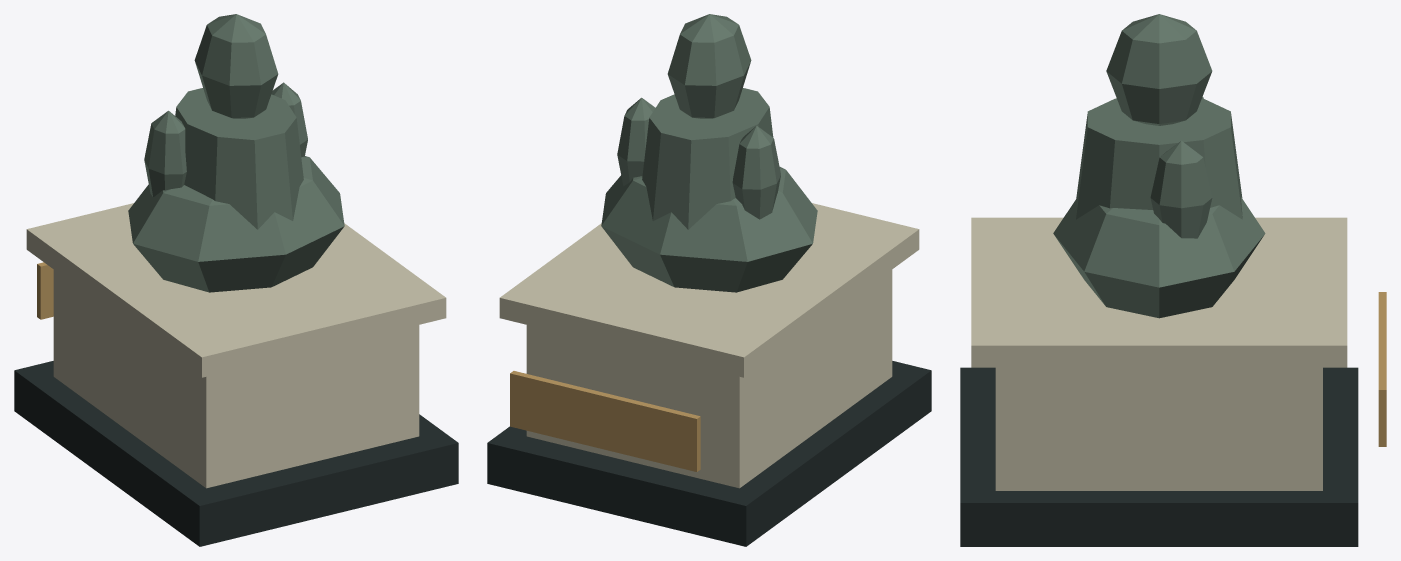
The model's file is LP_AsianHeritage_SeatedSculpture.fbx.
3 renders of one model, left to right at view 1: azimuth 30°, elevation 25°; view 2: azimuth 150°, elevation 25°; view 3: azimuth 270°, elevation 25°, orthographic. The views are drawn at different scales.
Visible parts, largest first — view 1: M_Central_Limestone, M_Central_PatinatedBronze, Charcoal, AgedBrass; view 2: M_Central_Limestone, M_Central_PatinatedBronze, Charcoal, AgedBrass; view 3: M_Central_Limestone, M_Central_PatinatedBronze, Charcoal, AgedBrass.
Part boxes in pixels (left/top/right/bottom): M_Central_Limestone: left=26, top=203, right=446, bottom=488; M_Central_PatinatedBronze: left=128, top=14, right=344, bottom=292; Charcoal: left=14, top=361, right=458, bottom=546; AgedBrass: left=37, top=262, right=53, bottom=319; M_Central_Limestone: left=499, top=203, right=919, bottom=488; M_Central_PatinatedBronze: left=601, top=14, right=817, bottom=292; Charcoal: left=487, top=361, right=931, bottom=546; AgedBrass: left=510, top=371, right=700, bottom=471; M_Central_Limestone: left=971, top=217, right=1347, bottom=490; M_Central_PatinatedBronze: left=1053, top=14, right=1265, bottom=318; Charcoal: left=960, top=367, right=1358, bottom=546; AgedBrass: left=1378, top=292, right=1386, bottom=446.
Bounding box in the file's own units: 150 × 240 × 199.
